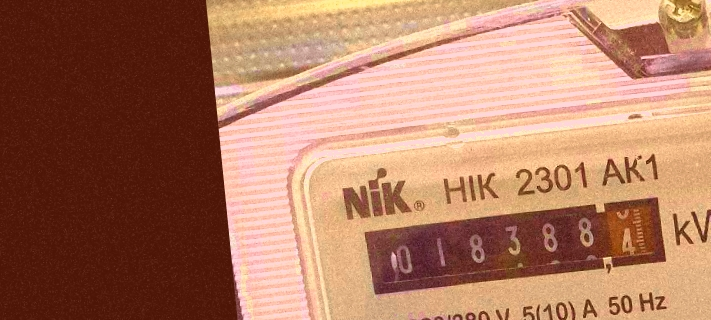0: (392, 239, 415, 277)
1: (429, 231, 451, 269)
3: (501, 221, 525, 258)
4: (615, 222, 638, 257)
8: (464, 228, 488, 266), (573, 212, 597, 250), (537, 219, 561, 255)
screen: (354, 185, 679, 306)
